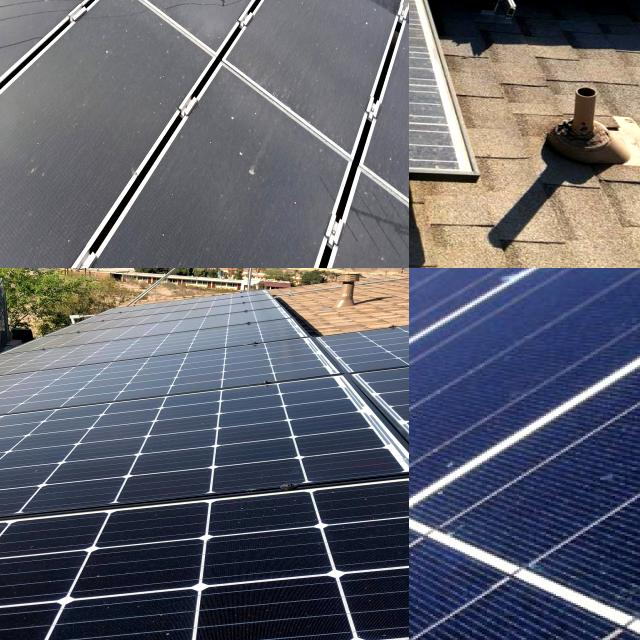crack: (409, 268, 640, 640)
dust: (0, 594, 409, 640), (409, 62, 556, 161), (0, 123, 95, 268), (214, 106, 304, 245), (120, 0, 199, 108), (297, 0, 385, 93), (0, 0, 83, 88), (409, 0, 551, 41), (351, 177, 409, 268), (0, 10, 34, 143), (5, 0, 81, 51), (409, 0, 495, 39), (409, 56, 435, 153), (409, 0, 458, 38), (135, 258, 294, 268)
